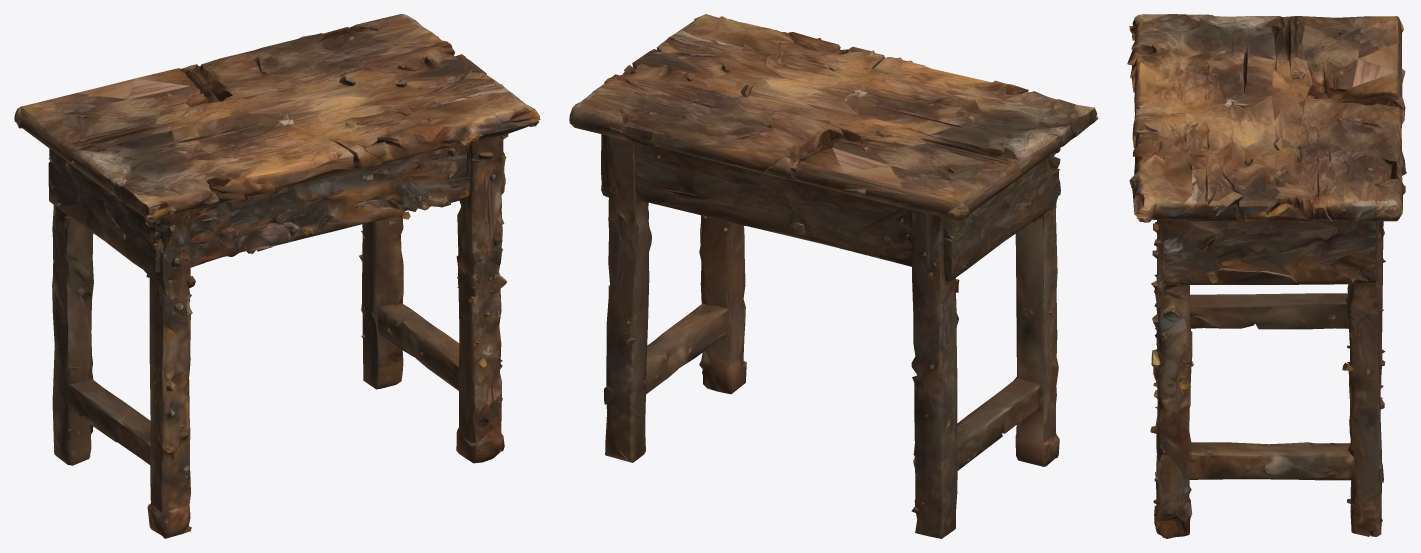
The model's file is table_idle.glb.
3 views of the same model, side by side, from view 1: azimuth 30°, elevation 25°; view 2: azimuth 150°, elevation 25°; view 3: azimuth 270°, elevation 25° (orthographic).
Parts seen in each view (by area): view 1: tripo_node_fdff14cc-950d-4e45-b5e1-c73bcb19a44d; view 2: tripo_node_fdff14cc-950d-4e45-b5e1-c73bcb19a44d; view 3: tripo_node_fdff14cc-950d-4e45-b5e1-c73bcb19a44d.
Part boxes in pixels (bbox=[...]): tripo_node_fdff14cc-950d-4e45-b5e1-c73bcb19a44d: bbox=[14, 14, 540, 538]; tripo_node_fdff14cc-950d-4e45-b5e1-c73bcb19a44d: bbox=[569, 14, 1098, 538]; tripo_node_fdff14cc-950d-4e45-b5e1-c73bcb19a44d: bbox=[1127, 14, 1406, 538].
Bounding box in the file's own units: 0.8727 × 0.7499 × 0.5338.
Materials: 1 (1 with a texture image).
